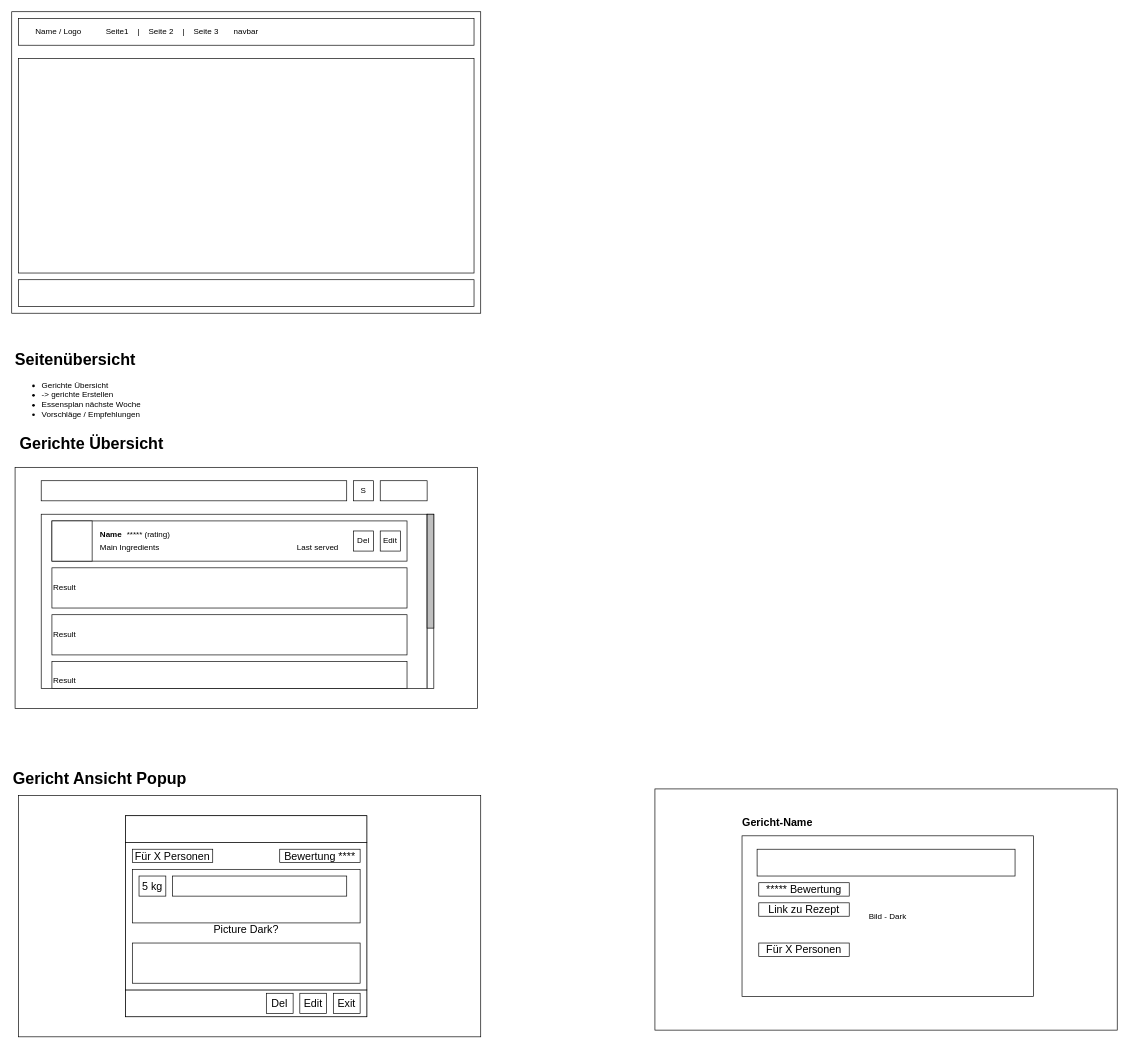
The diagram is 1129 pixels wide and 1049 high, and some of its shapes have lost their labels. Each missing label, with the centre of its shape:
Beschreibung: pixel 885 862
Desctiption: pixel 246 962
Filter: pixel 403 490
Footer: pixel 246 293
Hackfleisch: pixel 259 885
Hamburger: pixel 246 829
IMG: pixel 71 540
Inhalt: pixel 246 165
Search: pixel 194 490
